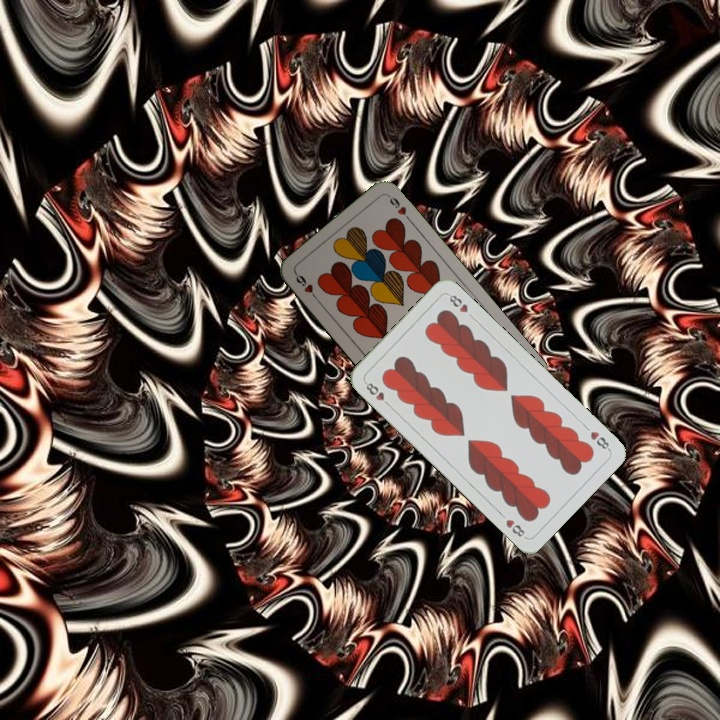H8: (361, 377, 393, 409), (586, 427, 613, 453)
H9: (291, 269, 321, 303)
